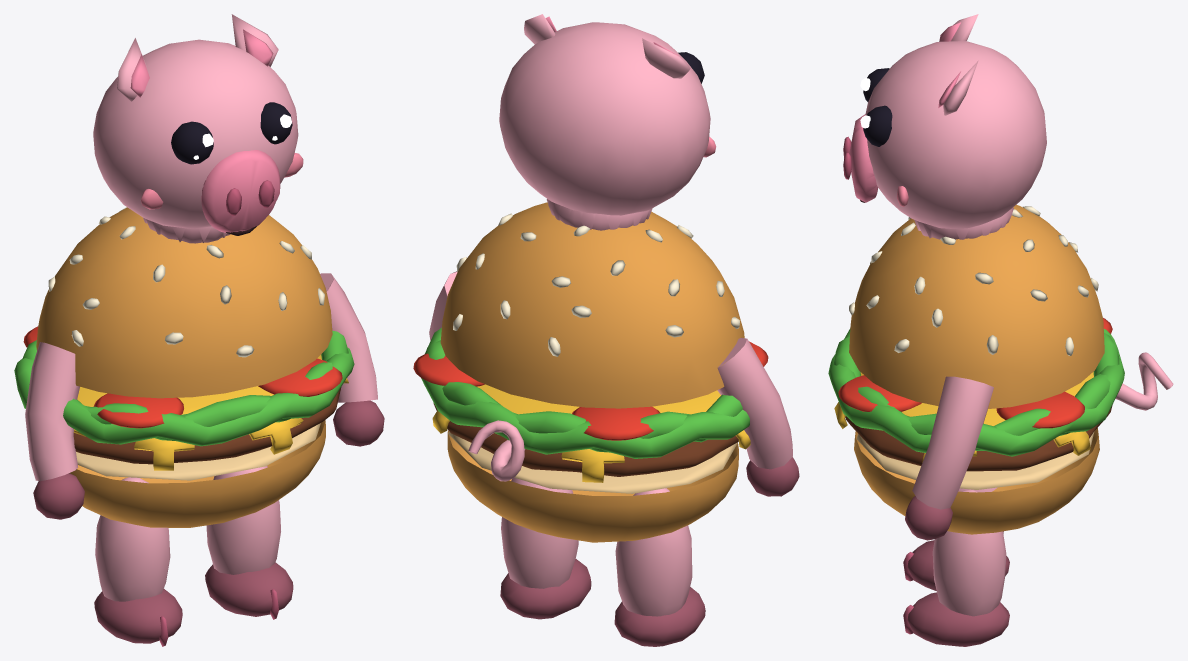
The model's file is pilot_gris2_burger_lav.glb.
3 views of the same model, side by side, from view 1: azimuth 30°, elevation 25°; view 2: azimuth 150°, elevation 25°; view 3: azimuth 270°, elevation 25° (orthographic). The views are drawn at different scales.
Visible parts, largest first — view 1: kropp, hode, bein_vf, bein_hf, vinge_v, vinge_h; view 2: kropp, hode, bein_vf, bein_hf, vinge_v, hale, vinge_h; view 3: kropp, hode, bein_hf, vinge_h, hale, bein_vf.
Boxes of the visible parts, x1,y1,x2,y2 form: kropp: (14,207,354,527); hode: (93,14,303,243); bein_vf: (94,477,182,646); bein_hf: (205,466,293,619); vinge_v: (25,342,84,519); vinge_h: (320,273,384,446); kropp: (413,202,768,542); hode: (499,14,716,230); bein_vf: (614,488,705,646); bein_hf: (500,477,591,619); vinge_v: (717,337,799,496); hale: (468,420,525,481); vinge_h: (429,271,457,340); kropp: (828,204,1124,534); hode: (843,14,1046,239); bein_hf: (903,489,1009,646); vinge_h: (905,376,993,540); hale: (1115,352,1173,410); bein_vf: (903,487,1009,590).
Bounding box in the file's own units: 1.06 × 1.73 × 0.9347.
